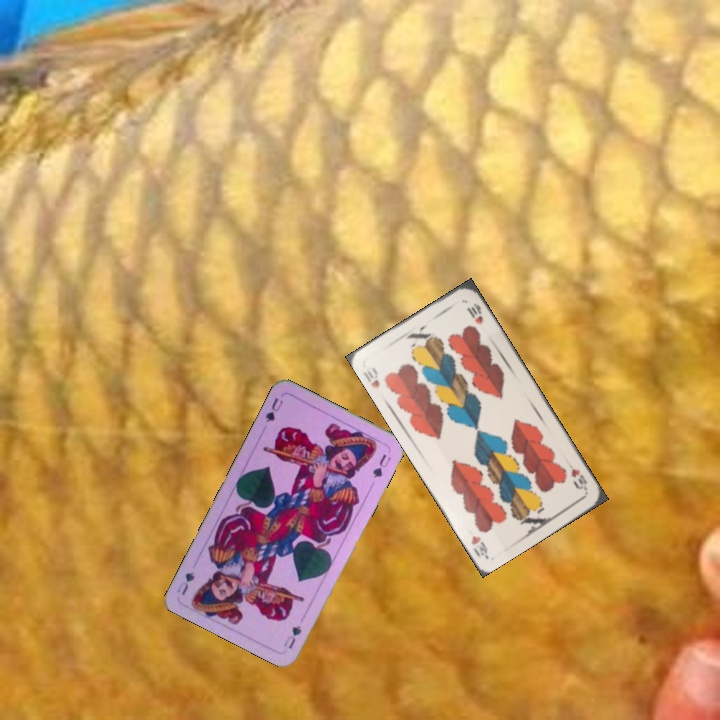GU: (261, 394, 286, 425), (279, 621, 304, 652)
H10: (566, 464, 590, 494), (359, 363, 383, 390)
